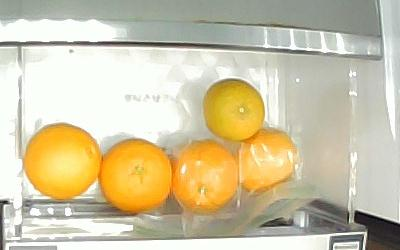orange: (24, 121, 102, 200), (100, 138, 172, 212), (203, 76, 265, 141)
orange_vinyl: (171, 139, 239, 214), (235, 128, 296, 190)
